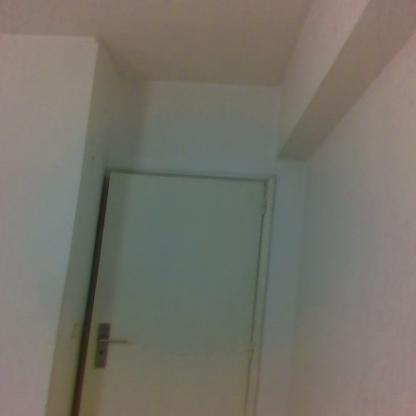door: (94, 171, 251, 416)
hinged: (247, 338, 256, 362), (260, 197, 268, 217)
lever: (96, 337, 130, 346)
